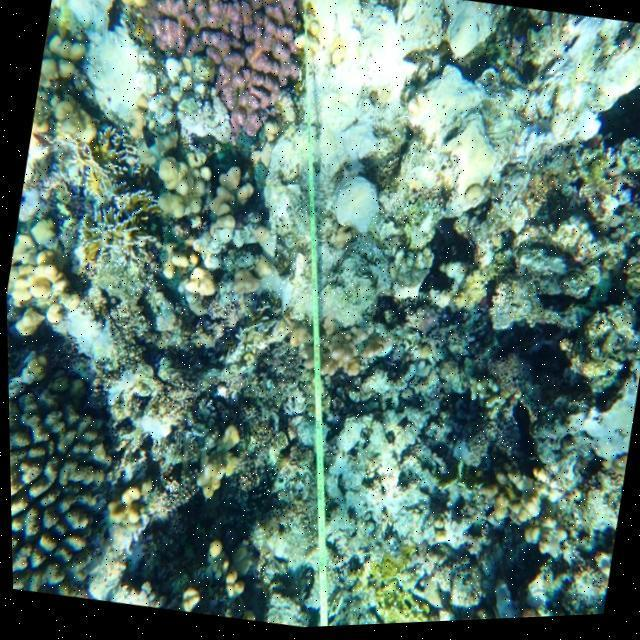Bleached Coral: (314, 381, 454, 567), (29, 0, 179, 143), (148, 35, 246, 166)
Dead Coral: (4, 365, 122, 592)
Healthy Coral: (175, 0, 302, 145)
